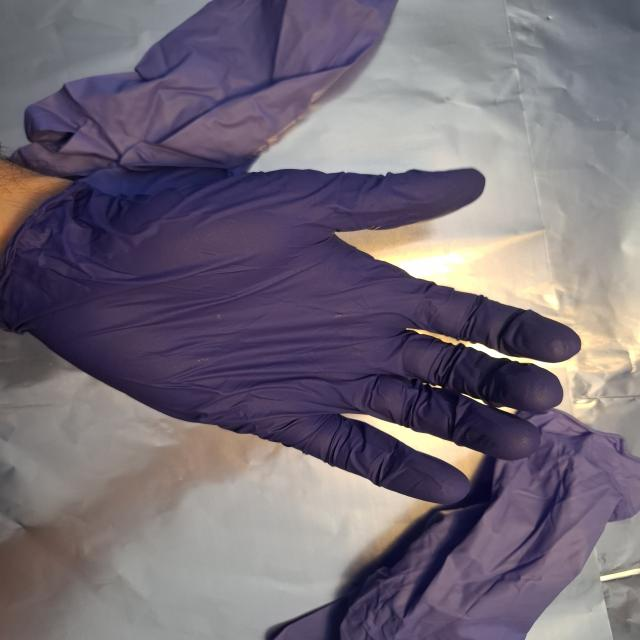glove_on: (9, 156, 586, 508)
